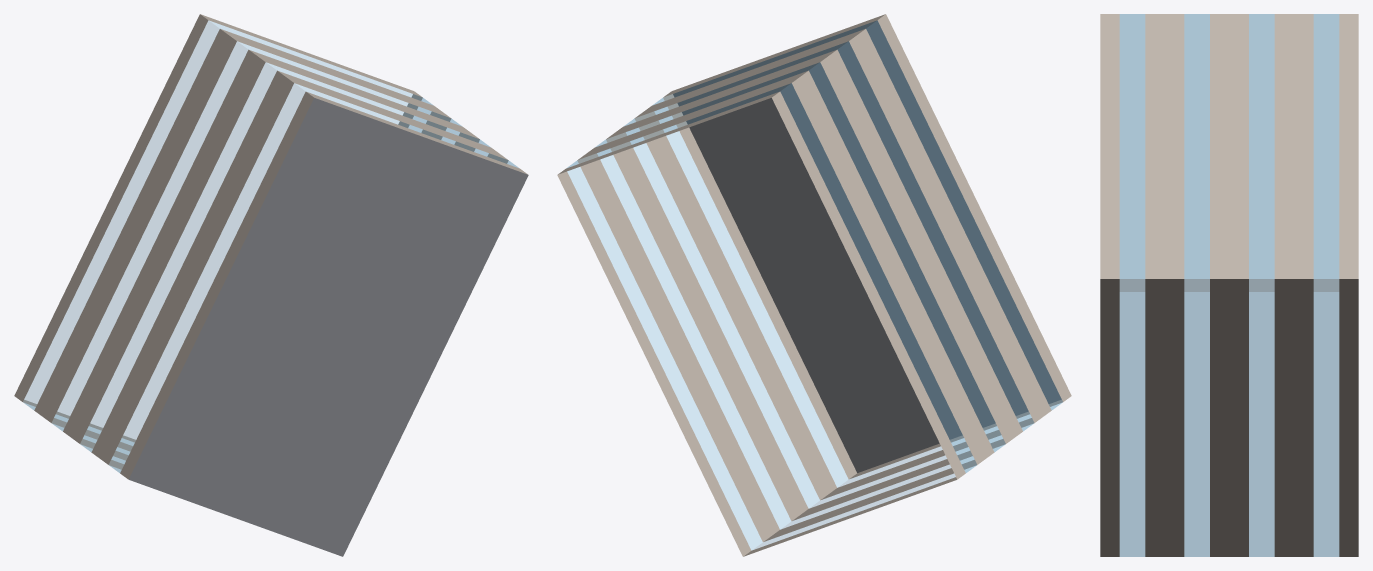
The picture shows the model from 3 angles, left to right: view 1: azimuth 30°, elevation 25°; view 2: azimuth 150°, elevation 25°; view 3: azimuth 270°, elevation 25°; orthographic projection. The views are drawn at different scales.
Parts seen in each view (by area): view 1: Atap_Beton, Dinding_Bata, Kaca_Jendela; view 2: Dinding_Bata, Atap_Beton, Kaca_Jendela; view 3: Dinding_Bata, Kaca_Jendela.
Part boxes in pixels (x1=…): Atap_Beton: x1=129, y1=98, x2=528, y2=556; Dinding_Bata: x1=14, y1=14, x2=527, y2=479; Kaca_Jendela: x1=23, y1=21, x2=518, y2=472; Dinding_Bata: x1=557, y1=14, x2=1071, y2=556; Atap_Beton: x1=673, y1=20, x2=1061, y2=472; Kaca_Jendela: x1=567, y1=21, x2=1062, y2=549; Dinding_Bata: x1=1100, y1=14, x2=1358, y2=556; Kaca_Jendela: x1=1119, y1=14, x2=1339, y2=556.
Bounding box in the file's own units: 32.32 × 35.98 × 16.
